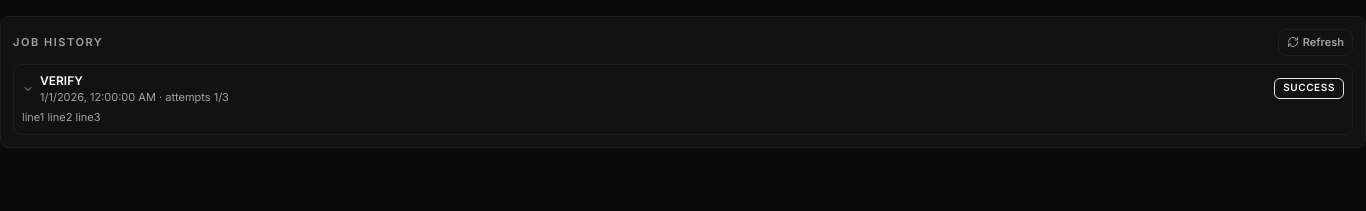
Test: ServerJobsPanel — expand to reveal full detail (Task A2) › collapses again on a second click
What coordinates should you click on to do the following:
click the button with aria-label "Toggle details for VERIFY job"
I would click on:
 (61, 80)
Its box is [22, 72, 1344, 105].
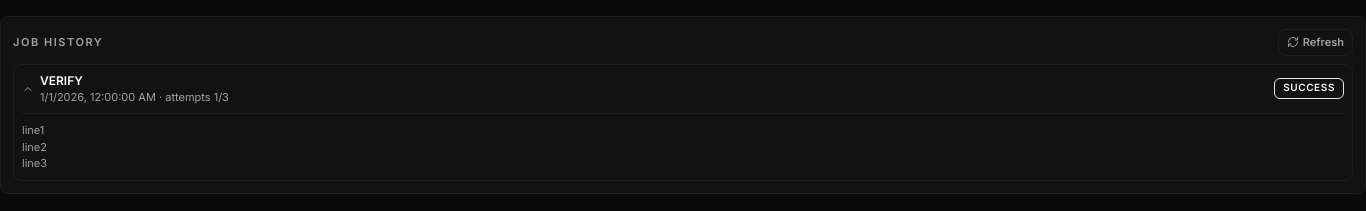
What coordinates should you click on to do the following:
click the button with aria-label "Toggle details for VERIFY job"
I would click on:
 (61, 80)
Its box is [22, 72, 1344, 105].
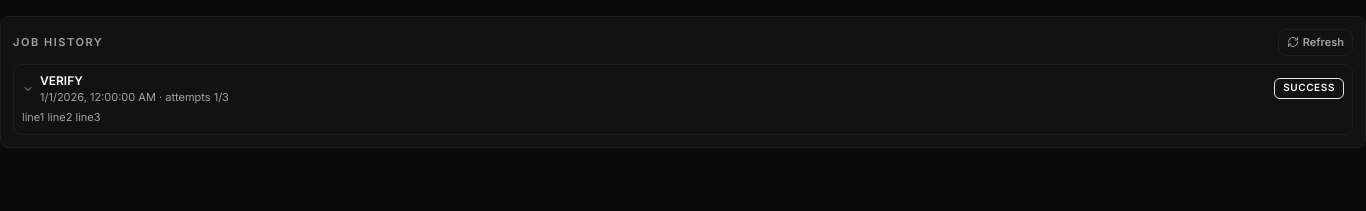
Now the text "line1 line2 line3" is shown once, box [22, 110, 100, 124]
